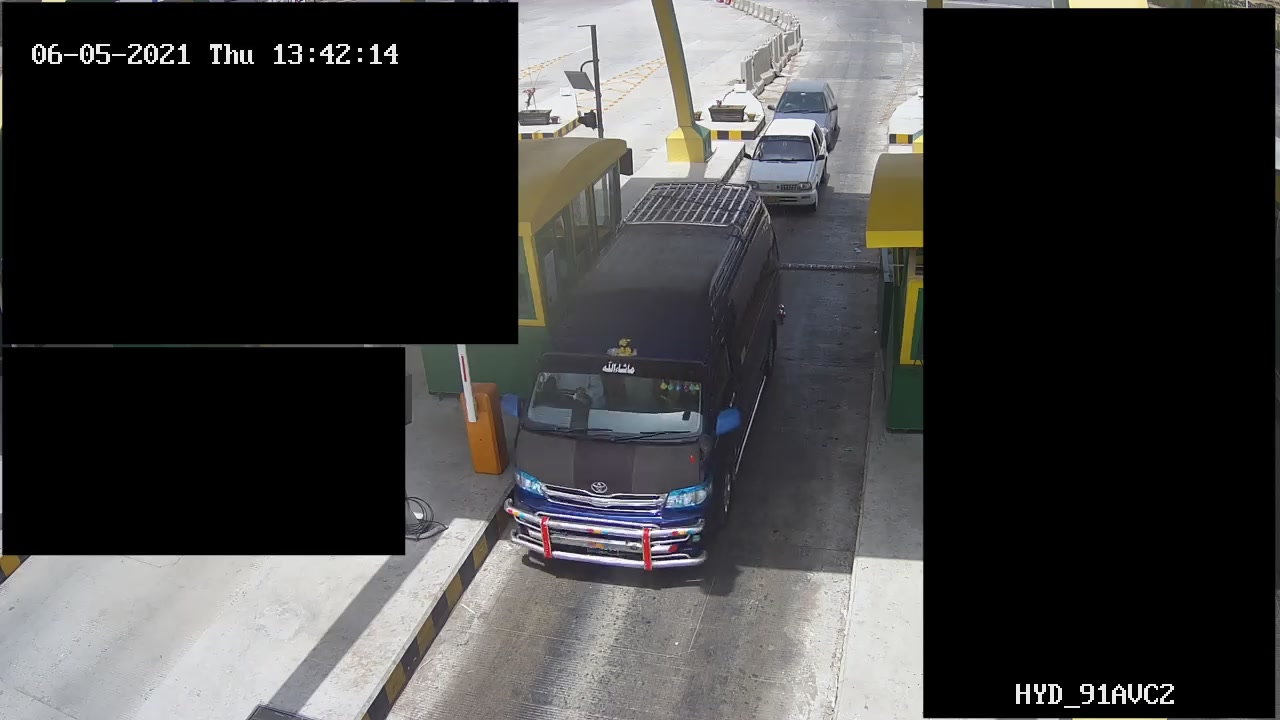F2: (507, 187, 782, 577)
